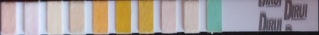color 1: (1, 3, 14, 33)
color 10: (208, 1, 220, 30)
color 2: (25, 4, 37, 33)
color 3: (48, 3, 60, 33)
color 4: (71, 3, 83, 33)
color 5: (94, 3, 107, 33)
color 6: (117, 2, 129, 32)
color 7: (140, 2, 152, 32)
color 8: (163, 2, 174, 31)
color 9: (185, 3, 197, 31)
